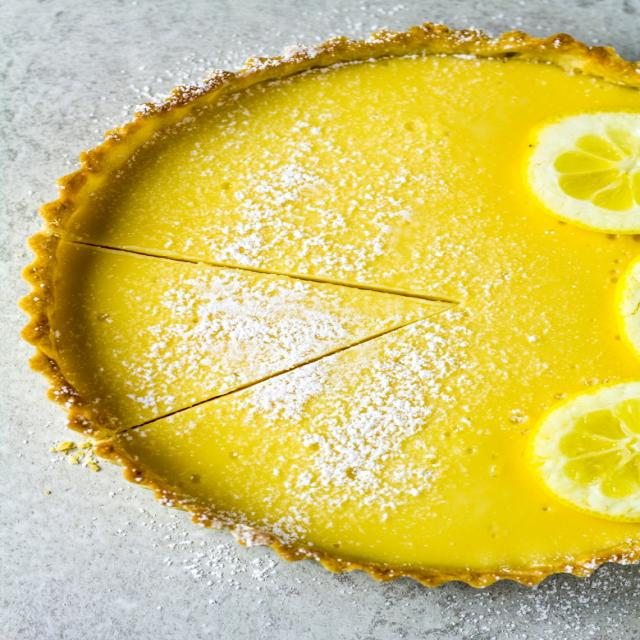lemon: (542, 387, 640, 515), (533, 112, 640, 224)
